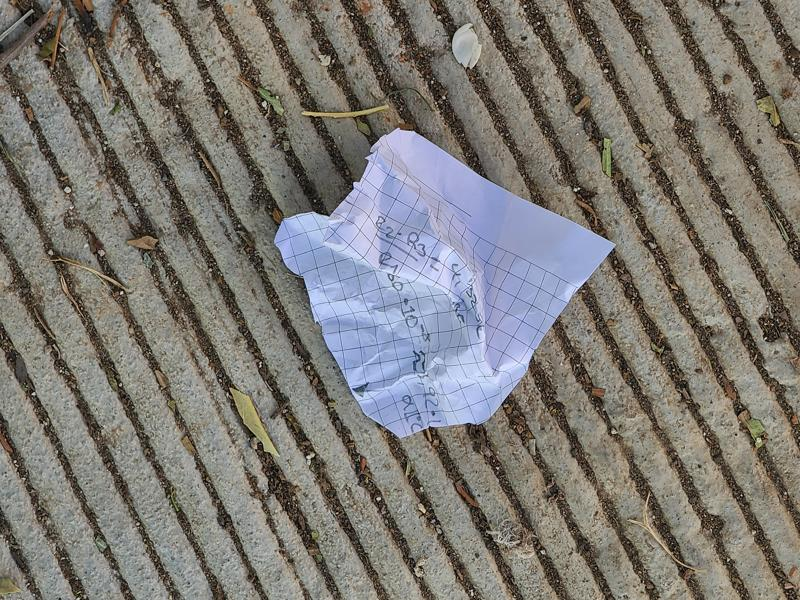papel: (273, 130, 613, 439)
